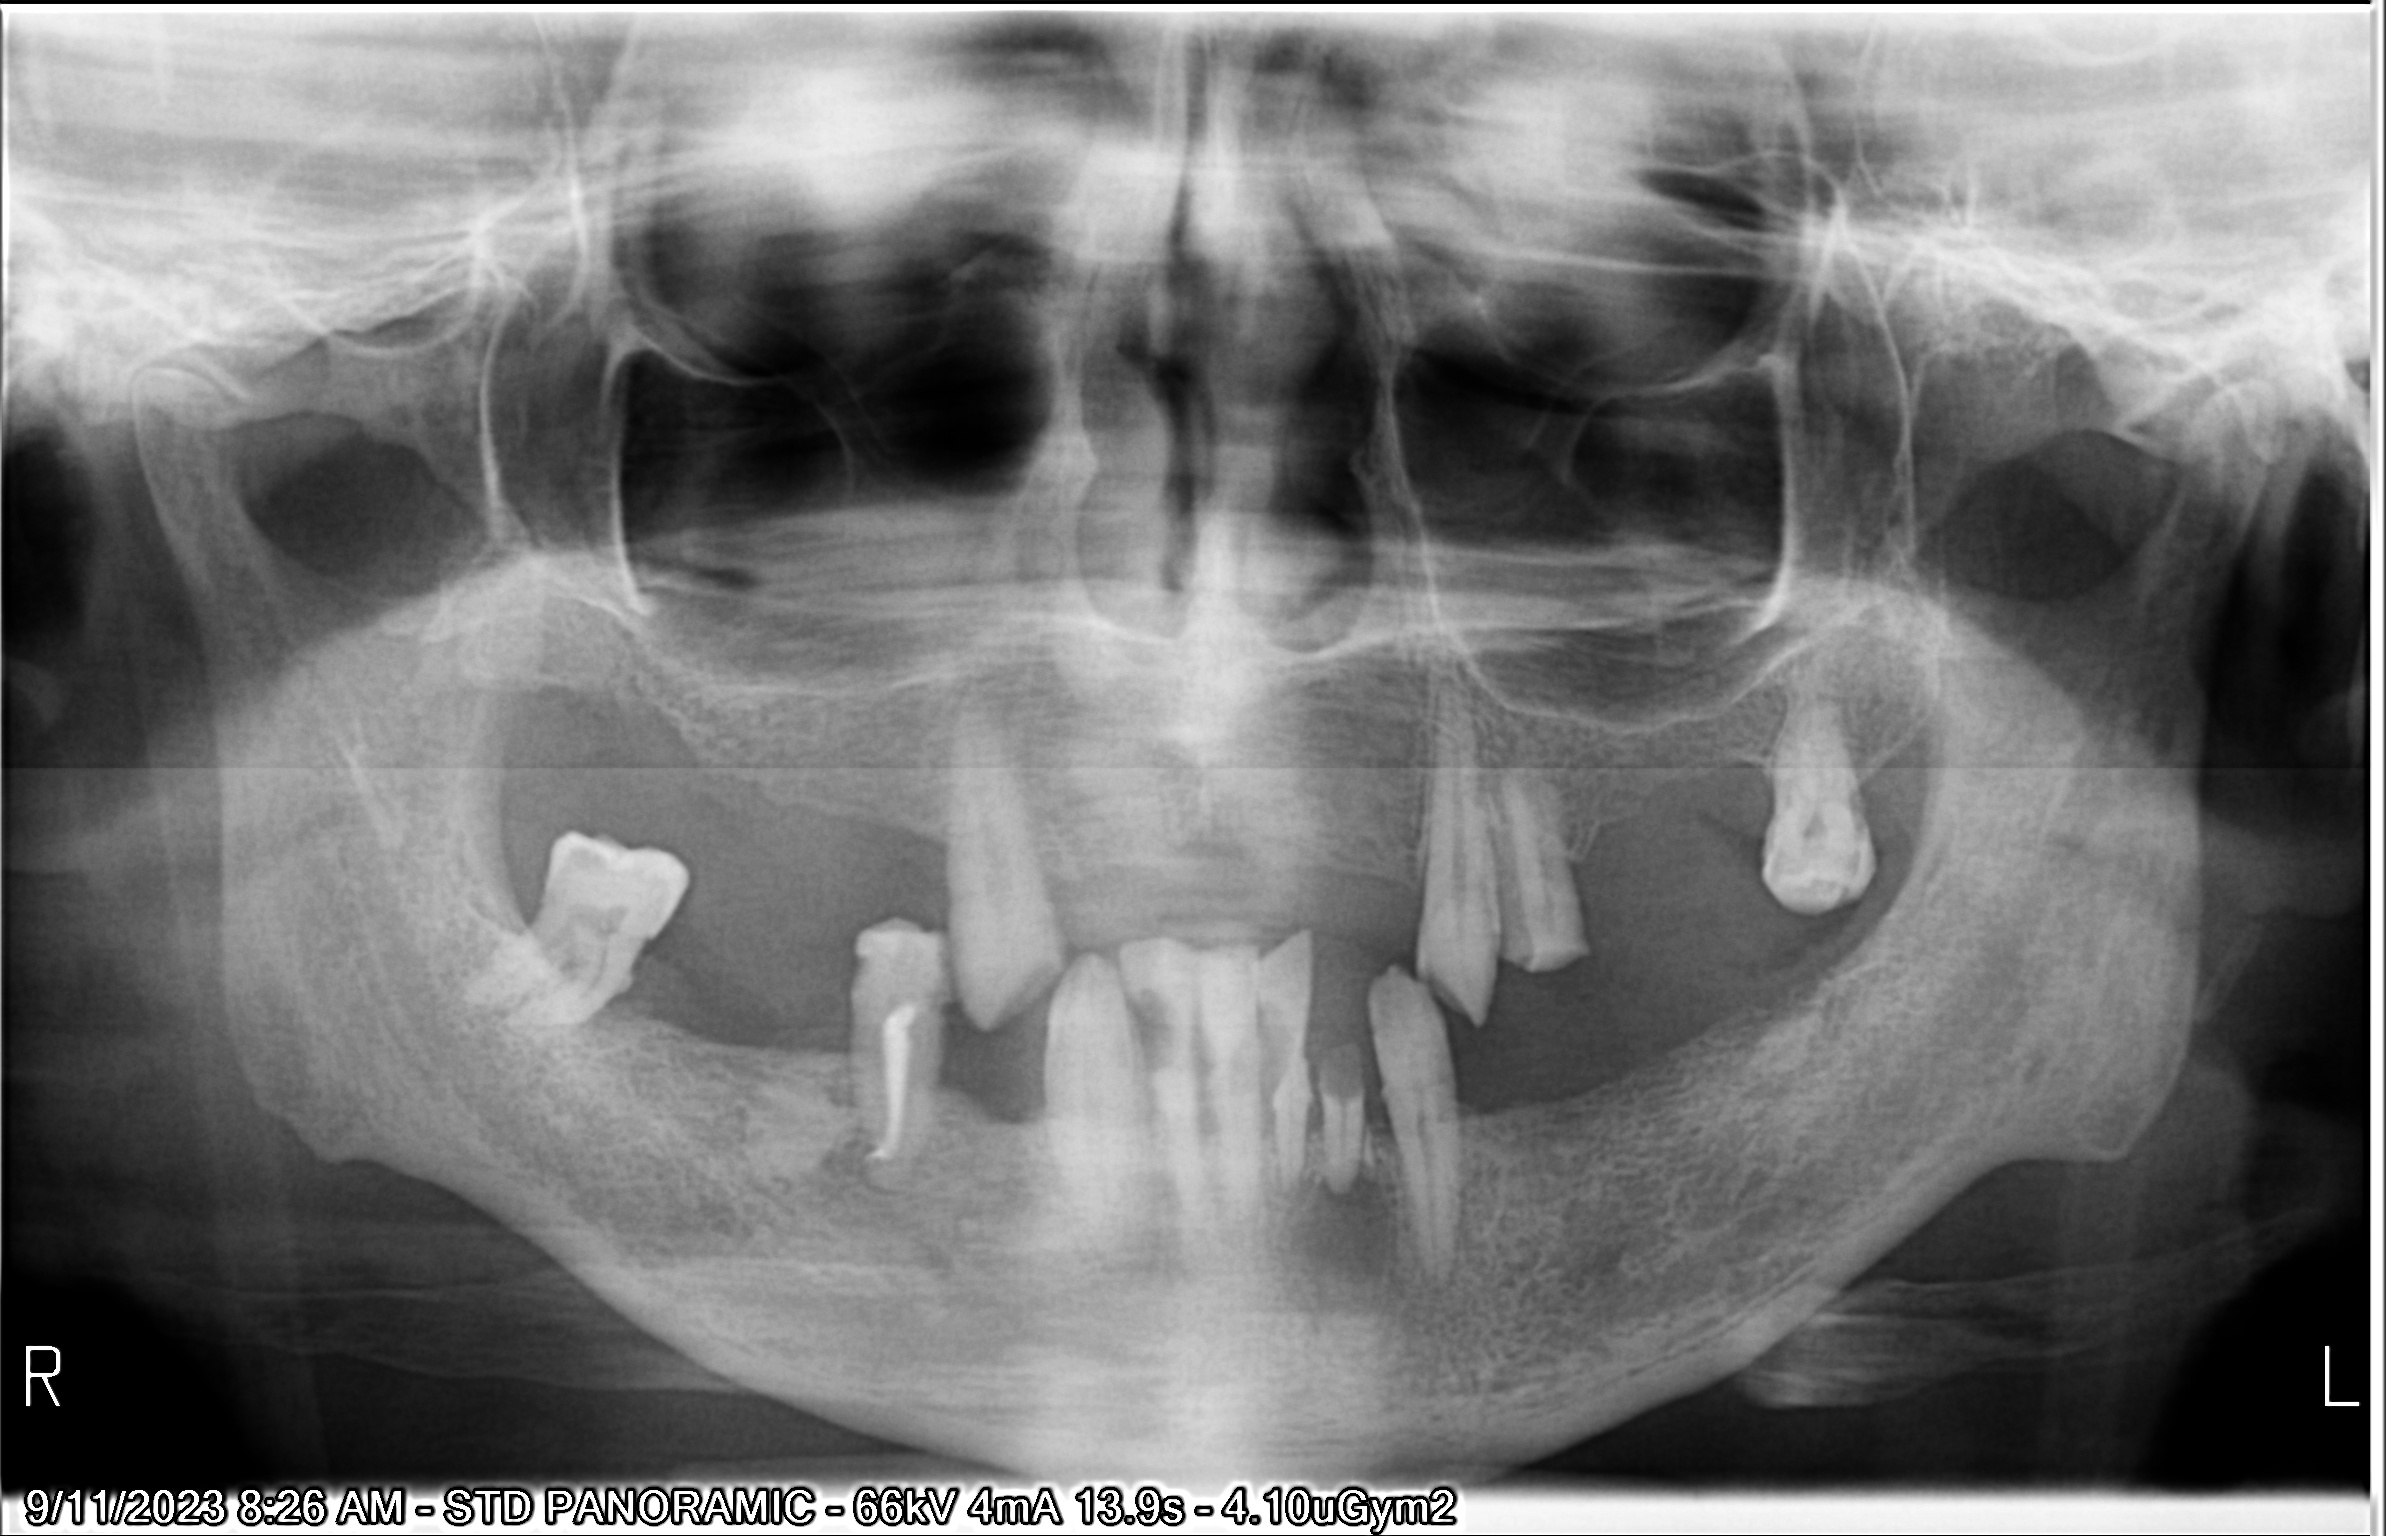API: (1278, 1157, 1410, 1301)
BON: (572, 953, 704, 1052)
CAR: (1122, 967, 1195, 1089), (1243, 990, 1303, 1101), (835, 938, 908, 997), (1527, 931, 1591, 983), (923, 971, 963, 1028)
END: (835, 1002, 953, 1204)
FUR: (525, 931, 605, 993)
ROT: (1303, 1032, 1383, 1202)
